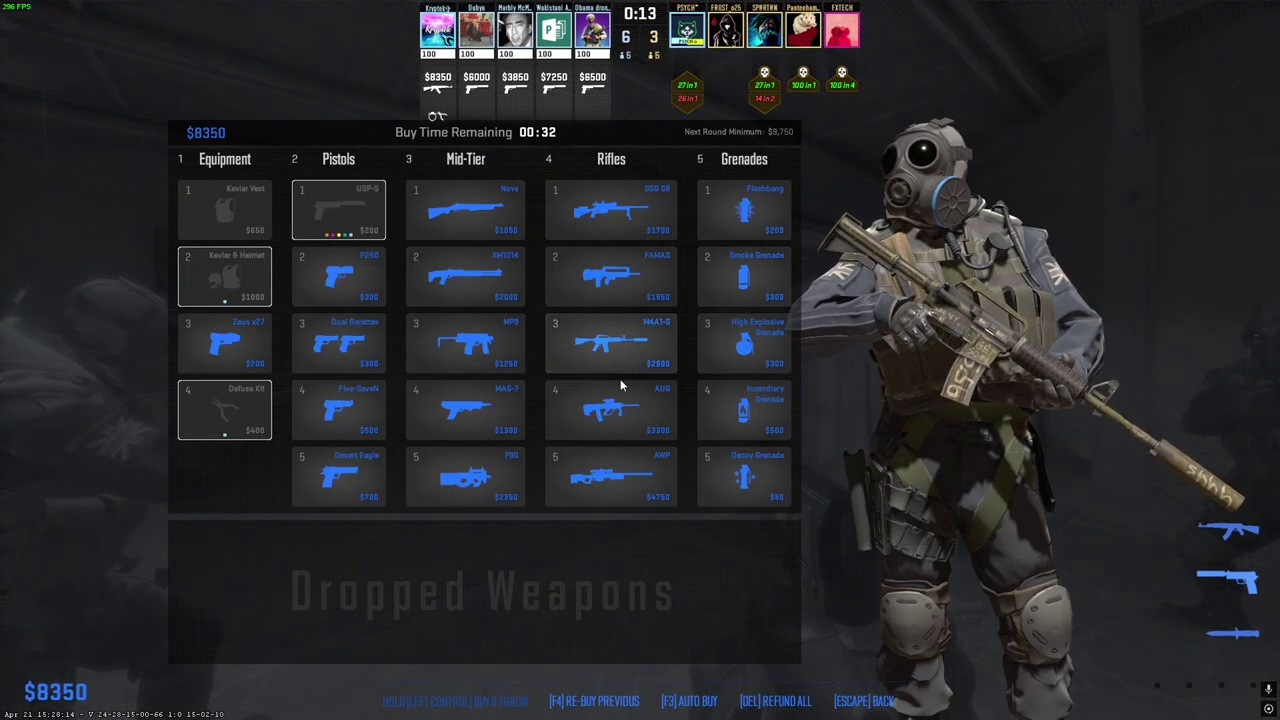CT: (853, 122, 1089, 720), (1, 278, 170, 720)
